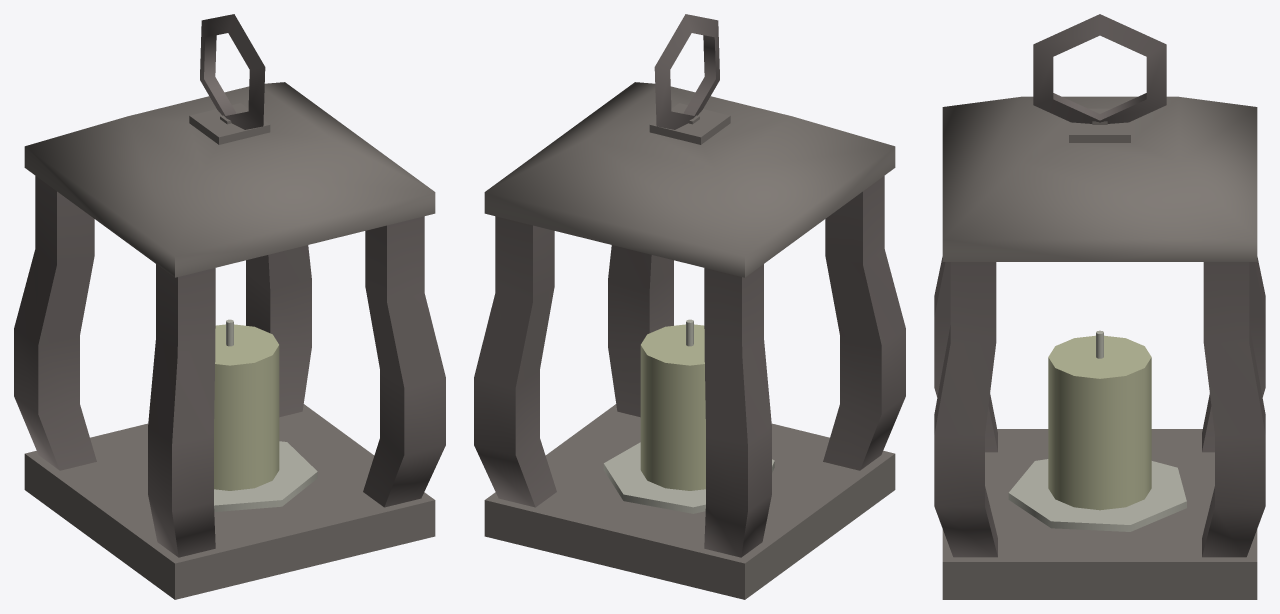
File: Lamp.FBX
3 renders of one model, left to right at view 1: azimuth 30°, elevation 25°; view 2: azimuth 150°, elevation 25°; view 3: azimuth 270°, elevation 25°, orthographic. The views are drawn at different scales.
Visible parts, largest first — view 1: Lamp.001, Cylindeandle, candleBase; view 2: Lamp.001, Cylindeandle, candleBase; view 3: Lamp.001, Cylindeandle, candleBase.
Boxes of the visible parts, bbox=[...] form: Lamp.001: bbox=[14, 14, 445, 599]; Cylindeandle: bbox=[214, 324, 279, 490]; candleBase: bbox=[214, 441, 317, 511]; Lamp.001: bbox=[474, 14, 905, 599]; Cylindeandle: bbox=[640, 324, 705, 490]; candleBase: bbox=[603, 442, 774, 513]; Lamp.001: bbox=[934, 14, 1265, 599]; Cylindeandle: bbox=[1048, 335, 1151, 510]; candleBase: bbox=[1008, 459, 1186, 531].
Size of the model in its own units: 12.36 by 21.49 by 12.36.
